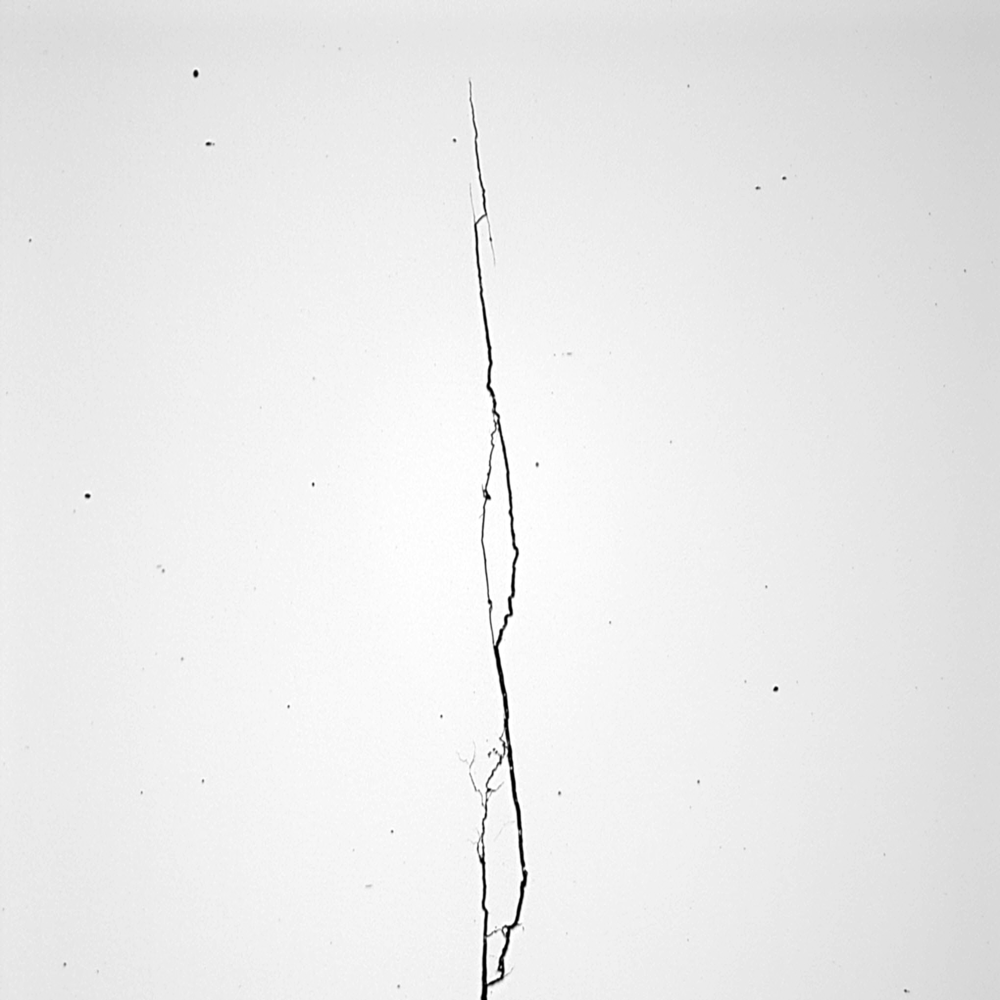crack: (424, 74, 543, 993)
